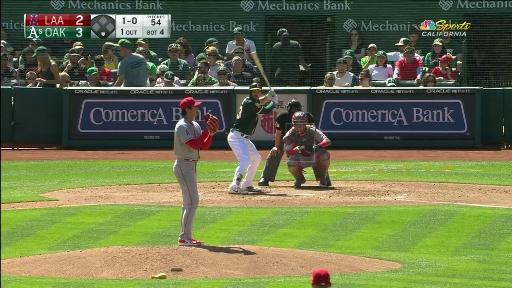pitcher: (174, 97, 219, 245)
